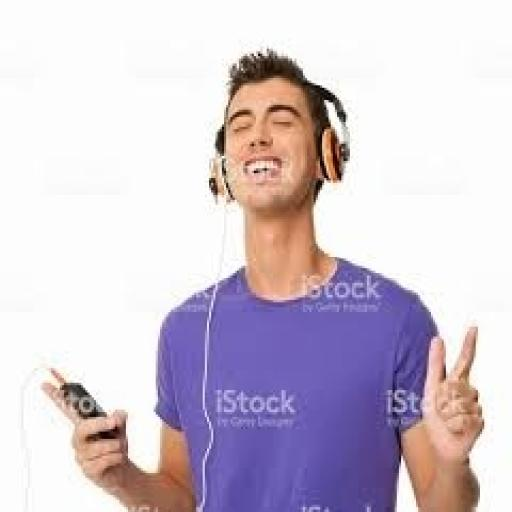listening_to_music: (36, 46, 486, 510)
